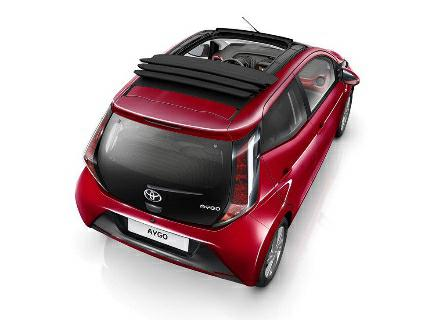丰田-Aygo: (71, 24, 360, 287)
